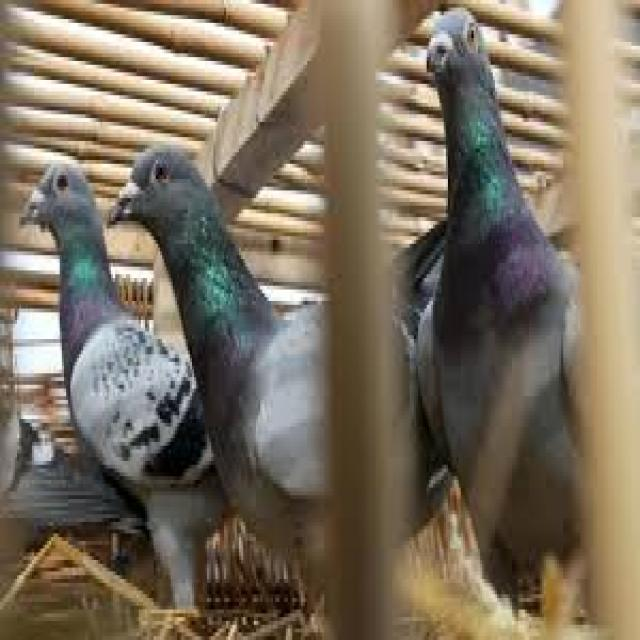pigeon: (404, 0, 640, 558)
